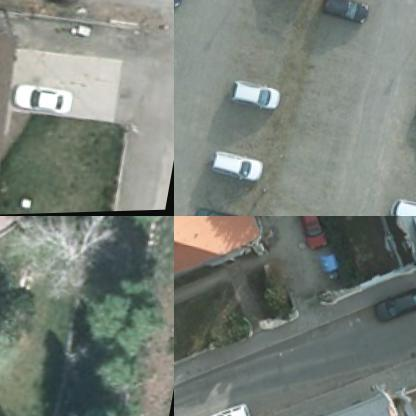car: (8, 76, 76, 123), (365, 274, 415, 329), (223, 78, 280, 110), (289, 216, 336, 253), (314, 0, 371, 26), (208, 152, 259, 178), (201, 394, 250, 415), (181, 201, 238, 215), (388, 193, 415, 215)
